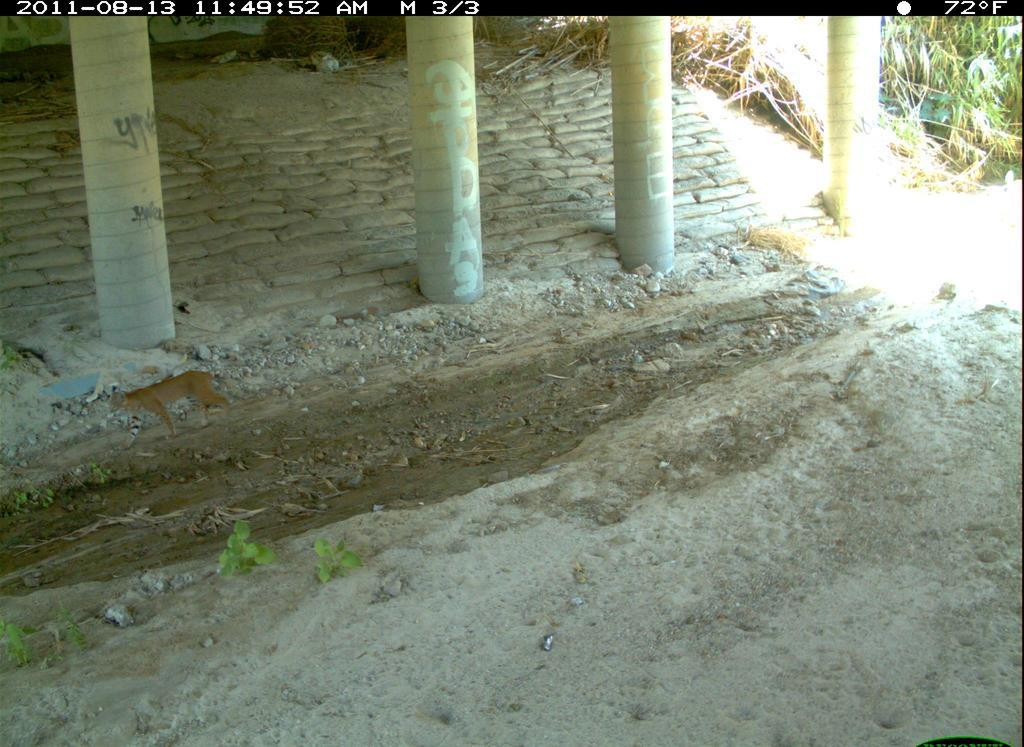bobcat: (205, 726, 480, 747)
